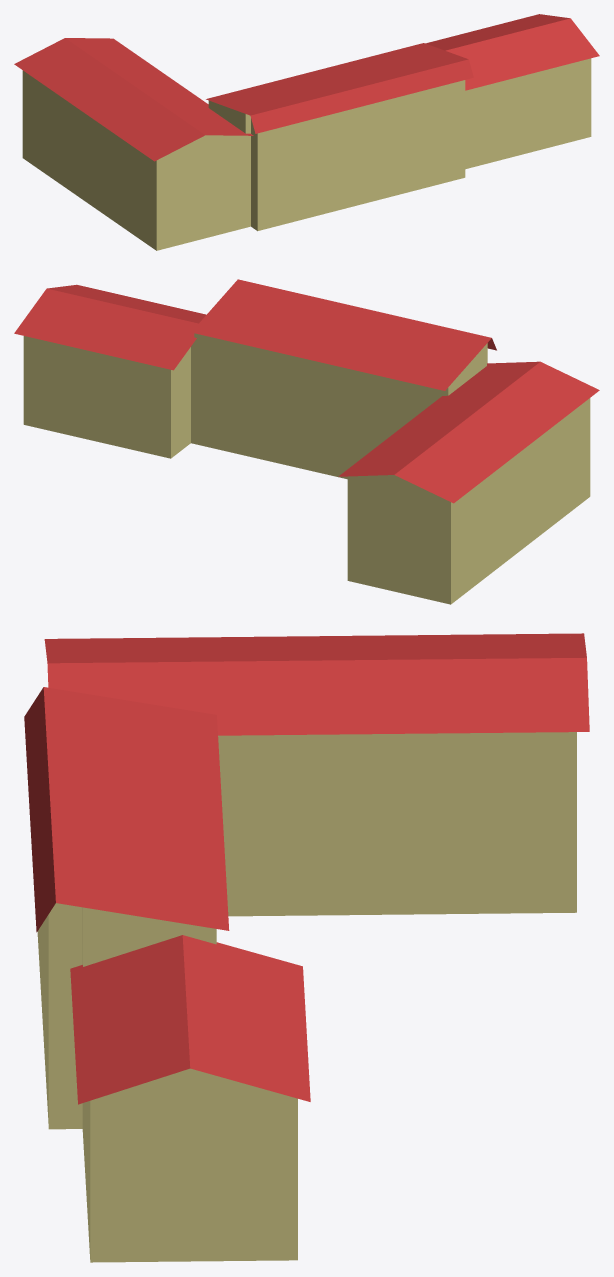
The picture shows the model from 3 angles, top to bottom: view 1: azimuth 30°, elevation 25°; view 2: azimuth 150°, elevation 25°; view 3: azimuth 270°, elevation 25°; orthographic projection. The views are drawn at different scales.
Bounding box in the file's own units: 42.32 × 22.55 × 10.19.
